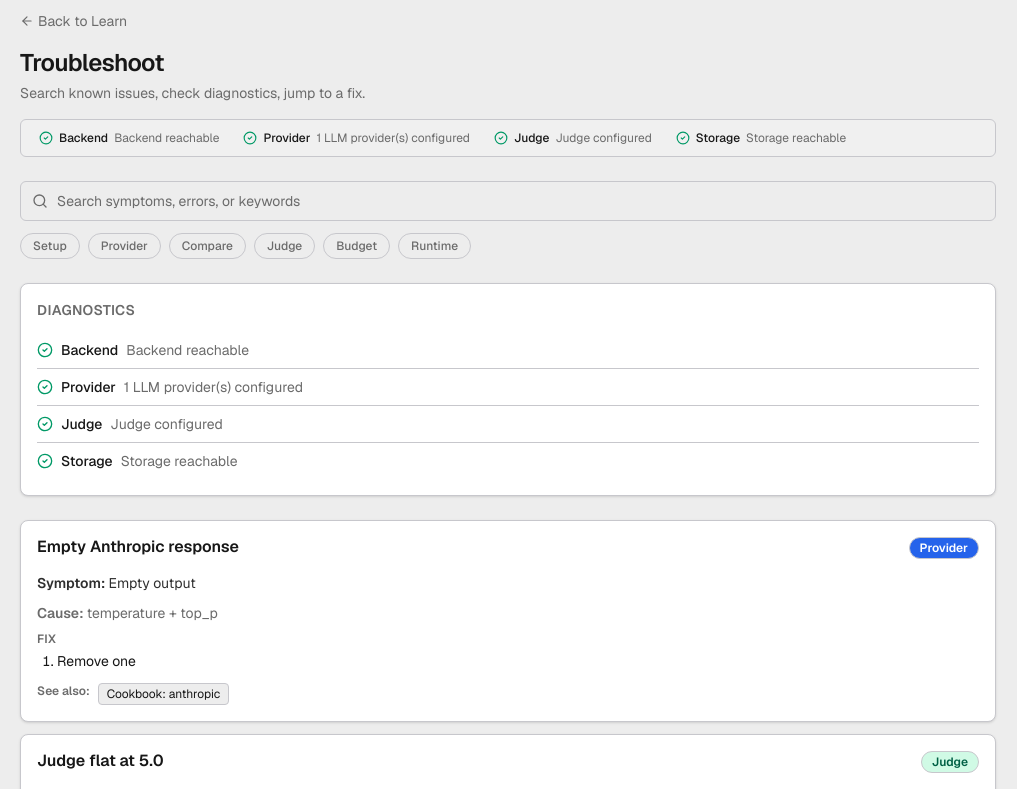
Test: TroubleshootPage › no-match state renders an empty-state message
The image size is (1017, 789).
Type "definitely-not-a-match-zzz" into the search field at (508, 201), box [20,181,996,221]
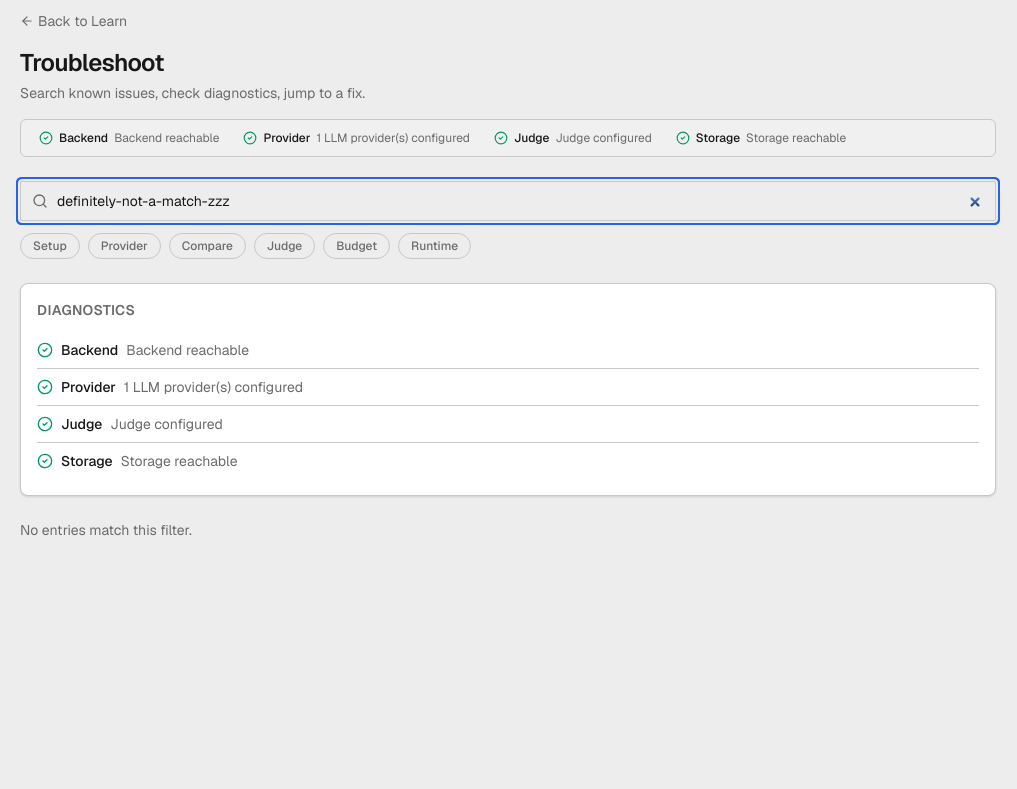
Result: the text "No entries match this filter." is shown at [20,521,192,539]
